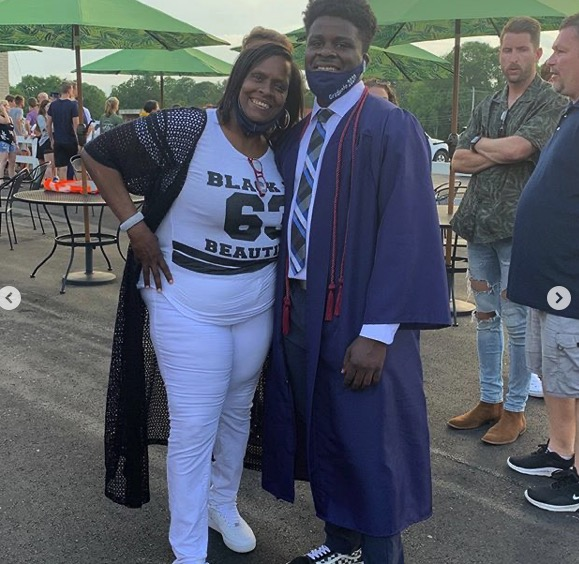mask_weared_incorrect: (306, 29, 360, 93), (242, 67, 285, 133)
without_mask: (547, 38, 577, 96), (502, 37, 534, 82)
